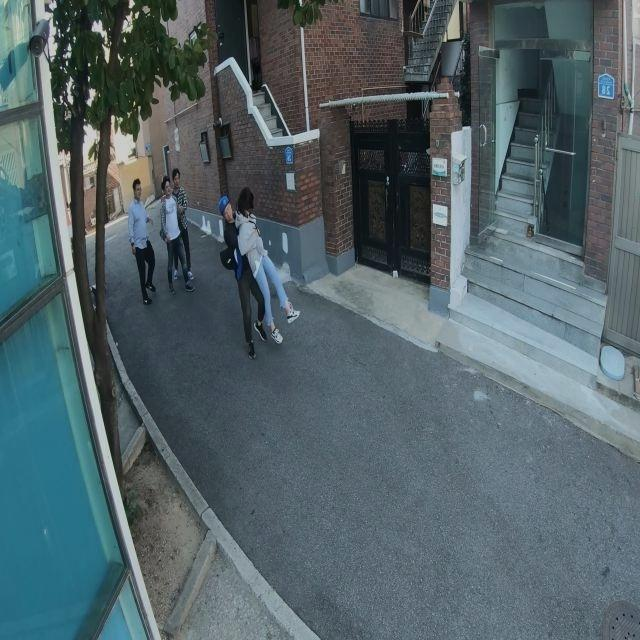fight: (220, 186, 299, 355)
non-fight: (160, 171, 191, 292), (126, 177, 155, 304)
